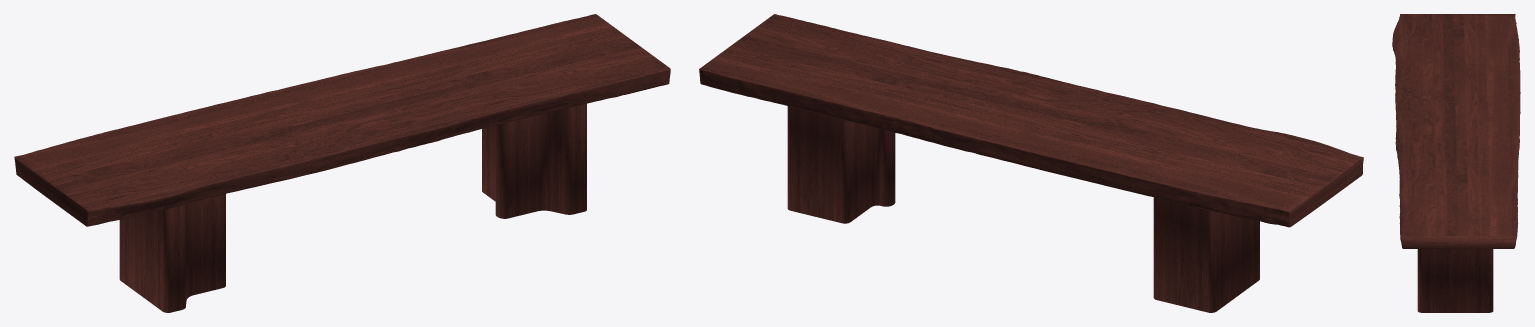
3 views of the same model, side by side, from view 1: azimuth 30°, elevation 25°; view 2: azimuth 150°, elevation 25°; view 3: azimuth 270°, elevation 25° (orthographic). The views are drawn at different scales.
Visible parts, largest first — view 1: XD-茶桌; view 2: XD-茶桌; view 3: XD-茶桌.
Boxes of the visible parts, bbox=[...] form: XD-茶桌: bbox=[14, 14, 670, 312]; XD-茶桌: bbox=[699, 14, 1363, 312]; XD-茶桌: bbox=[1392, 14, 1520, 312].
Bounding box in the file's own units: 3.7 × 0.9038 × 0.8077.
